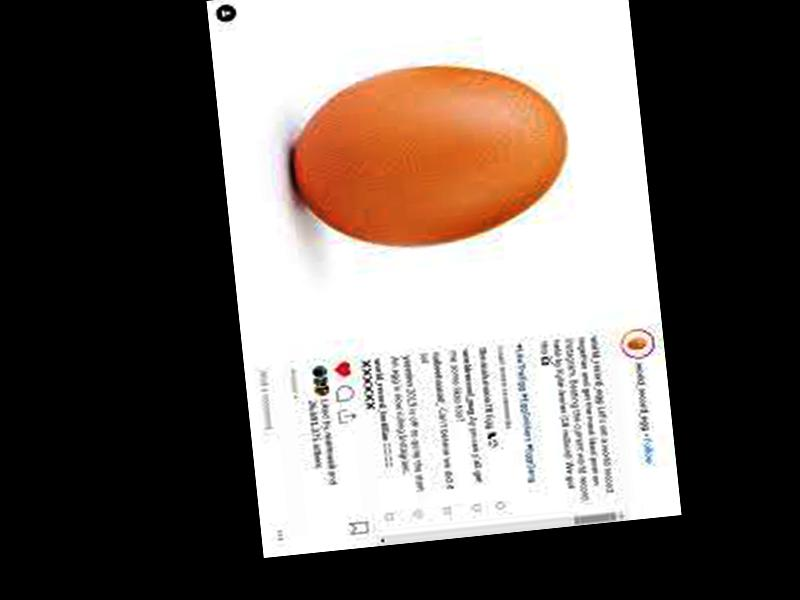Eggs: (287, 53, 574, 257)
